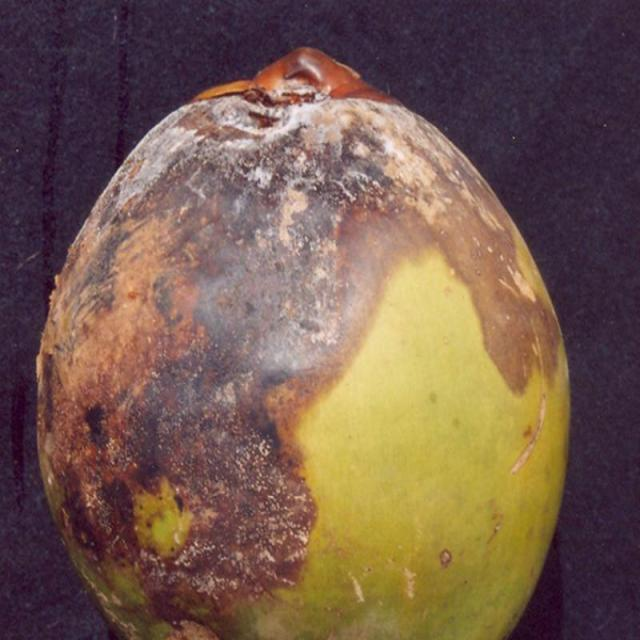damaged: (36, 48, 569, 639)
